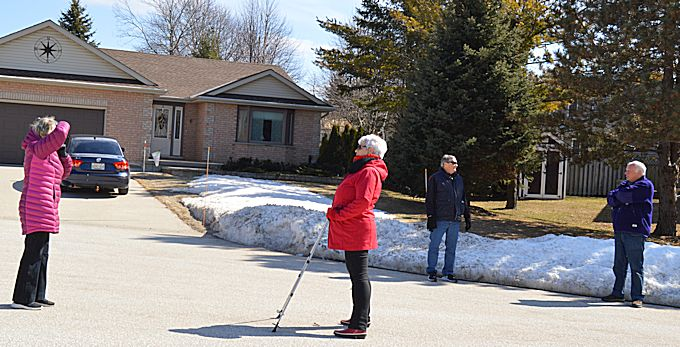Good: (9, 113, 385, 338), (424, 153, 656, 308), (326, 135, 466, 347)
